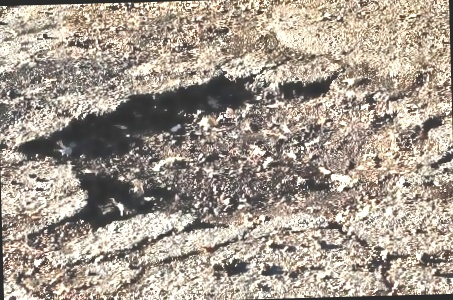pothole: (13, 66, 441, 235)
